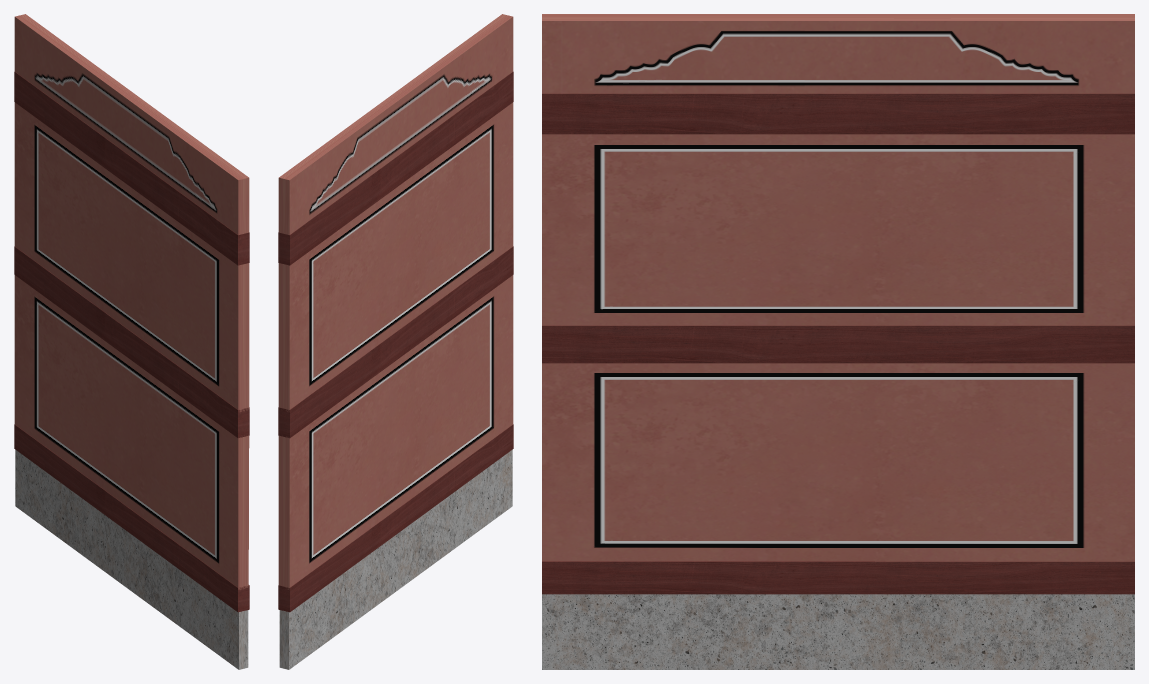
File: SM_Wall07F.fbx
3 views of the same model, side by side, from view 1: azimuth 30°, elevation 25°; view 2: azimuth 150°, elevation 25°; view 3: azimuth 270°, elevation 25° (orthographic). The views are drawn at different scales.
Parts seen in each view (by area): view 1: SM_Wall07F; view 2: SM_Wall07F; view 3: SM_Wall07F.
Part boxes in pixels (x1,y1,x2,y2): SM_Wall07F: (14, 14, 249, 669); SM_Wall07F: (278, 14, 513, 669); SM_Wall07F: (542, 14, 1134, 669).
Size of the model in its own units: 8.99 by 302 by 365.
